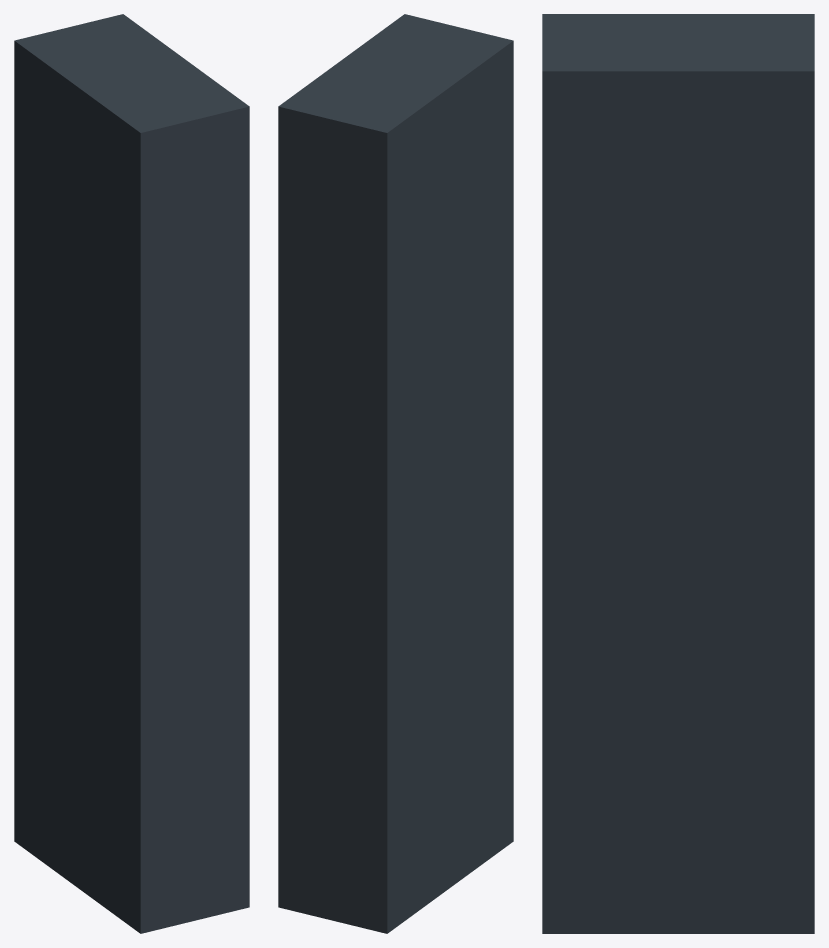
Rendered from blue part.fbx.
The picture shows the model from 3 angles, left to right: view 1: azimuth 30°, elevation 25°; view 2: azimuth 150°, elevation 25°; view 3: azimuth 270°, elevation 25°; orthographic projection. The views are drawn at different scales.
Visible parts, largest first — view 1: polySurface51; view 2: polySurface51; view 3: polySurface51.
Boxes of the visible parts, left/top/right/bottom form: polySurface51: left=14, top=14, right=249, bottom=933; polySurface51: left=278, top=14, right=513, bottom=933; polySurface51: left=542, top=14, right=814, bottom=933.
Size of the model in its own units: 0.3937 by 2.77 by 0.7911.
